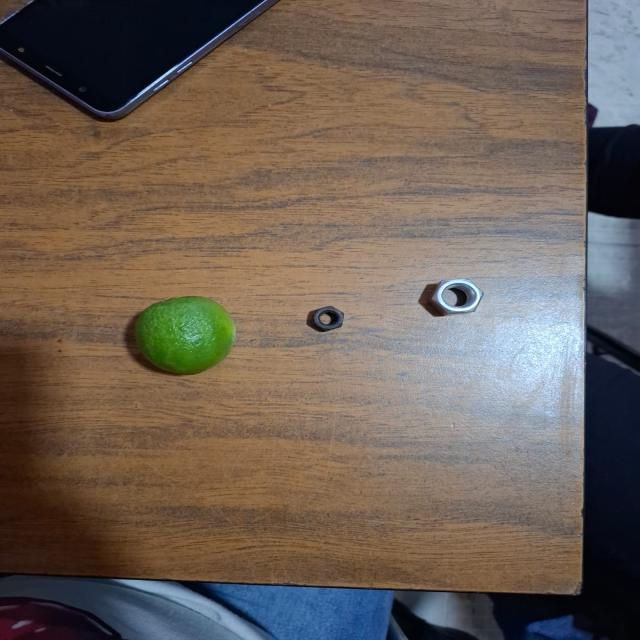limon: (135, 292, 243, 376)
milimetrico: (307, 303, 344, 337)
tuerca: (430, 277, 484, 321)
